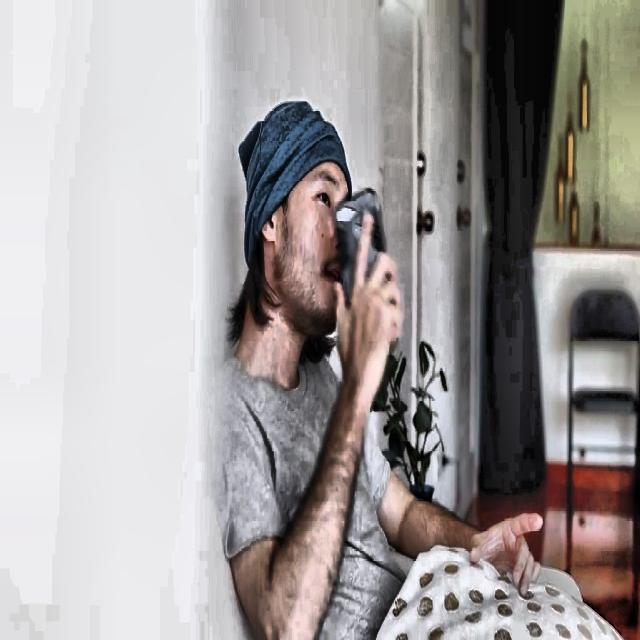Phone: (334, 185, 386, 304)
